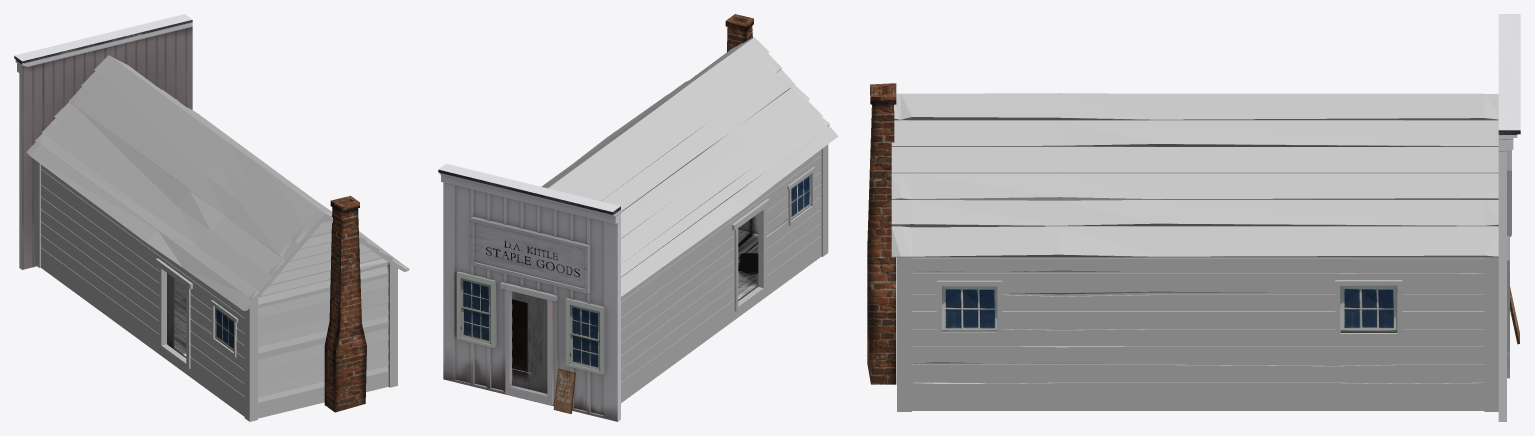
The model's file is KittleStoreOnly.FBX.
The picture shows the model from 3 angles, left to right: view 1: azimuth 30°, elevation 25°; view 2: azimuth 150°, elevation 25°; view 3: azimuth 270°, elevation 25°; orthographic projection. The views are drawn at different scales.
Visible parts, largest first — view 1: ShoeshopExteriorLoPoly, FalseFrontStoreLoPoly, Chimney, ShoeshopInteriorloPoly, ExteriorWindow; view 2: ShoeshopExteriorLoPoly, FalseFrontStoreLoPoly, ShoeshopInteriorloPoly, BucktownStoreExterior001, BucktownStoreExterior002, AdBoard, Chimney, ExteriorWindow; view 3: ShoeshopExteriorLoPoly, Chimney, FalseFrontStoreLoPoly, ExteriorWindow002, ExteriorWindow001.
Part boxes in pixels (x1=…): ShoeshopExteriorLoPoly: x1=26, y1=55, x2=409, y2=421; FalseFrontStoreLoPoly: x1=14, y1=14, x2=192, y2=269; Chimney: x1=324, y1=195, x2=366, y2=412; ShoeshopInteriorloPoly: x1=167, y1=273, x2=186, y2=357; ExteriorWindow: x1=215, y1=307, x2=233, y2=351; ShoeshopExteriorLoPoly: x1=512, y1=37, x2=838, y2=402; FalseFrontStoreLoPoly: x1=438, y1=163, x2=620, y2=421; ShoeshopInteriorloPoly: x1=512, y1=214, x2=758, y2=393; BucktownStoreExterior001: x1=457, y1=271, x2=495, y2=347; BucktownStoreExterior002: x1=566, y1=298, x2=603, y2=374; AdBoard: x1=553, y1=368, x2=575, y2=413; Chimney: x1=725, y1=14, x2=753, y2=51; ExteriorWindow: x1=791, y1=174, x2=810, y2=219; ShoeshopExteriorLoPoly: x1=891, y1=93, x2=1498, y2=411; Chimney: x1=867, y1=83, x2=896, y2=384; FalseFrontStoreLoPoly: x1=1498, y1=14, x2=1520, y2=421; ExteriorWindow002: x1=1340, y1=285, x2=1397, y2=331; ExteriorWindow001: x1=942, y1=286, x2=997, y2=331.
Size of the model in its own units: 1286 by 1503 by 3052.
